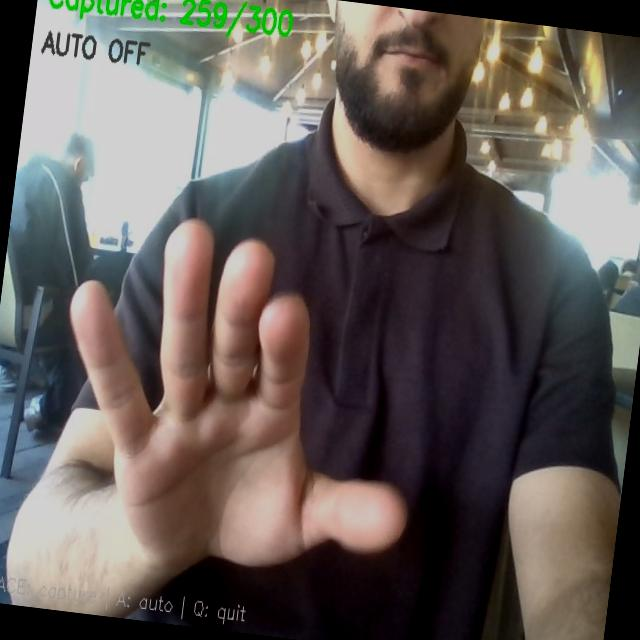Hand: (71, 220, 406, 571)
